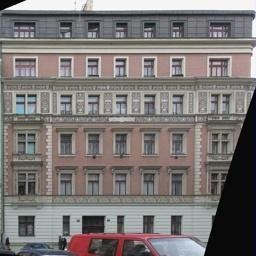building: (0, 0, 256, 240)
